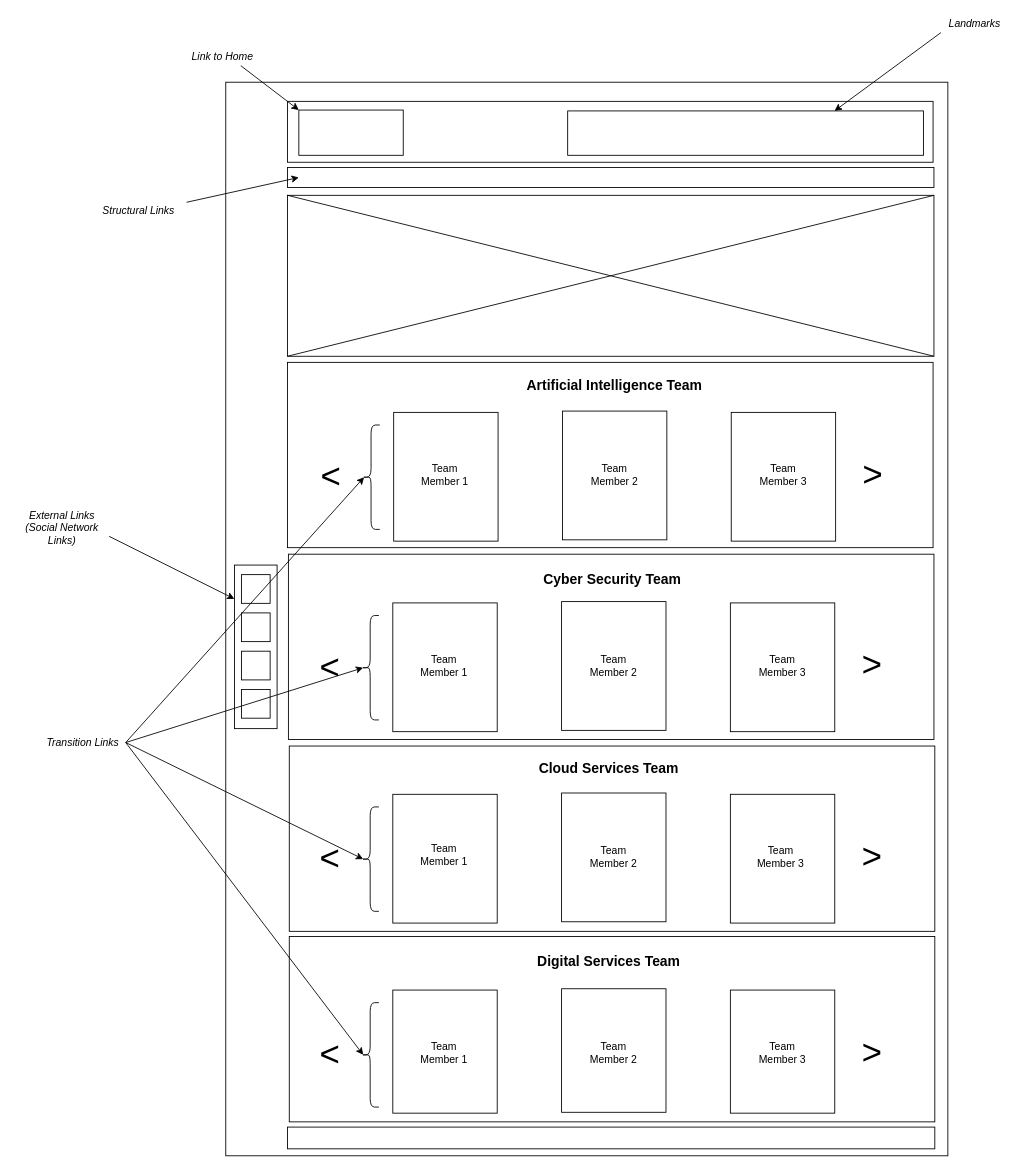
Image size: 1023x1171. Some labels were removed from this diagram. The centre of each missing label's shape, as x and y in pixels:
About Us Services Industries Our Team Contact Us: point 745,132
Anchor Links: point 610,177
Footer: point 611,1137
LOGO: point 350,132
OUR TEAM: point 610,275
